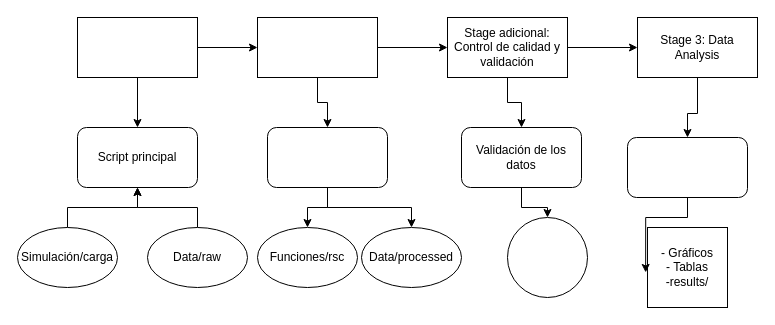
Some shapes in this 775 by 325 pixel diagram are drawn without their labels. Here are the shapes that lost their labels. From the top down, the box of each, then its label:
(76, 16, 198, 78): Stage 1: Data Imput
(256, 16, 378, 78): Stage 2: Data procesing
(266, 126, 388, 188): Limpieza/DataQuality
(626, 136, 748, 198): Estimaciones
(506, 216, 588, 298): Estimación de modelos
